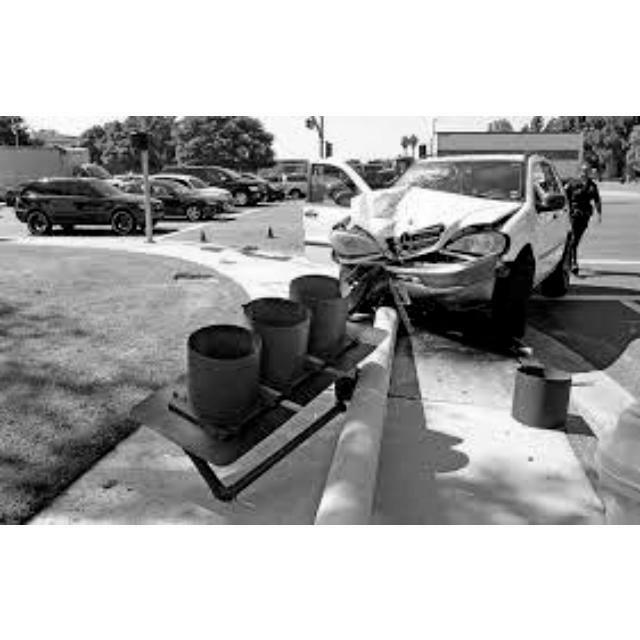bonnet-dent: (363, 184, 492, 240)
front-bumper-dent: (349, 257, 494, 297)
